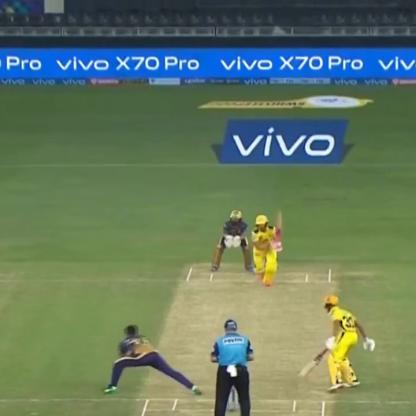pitch: (135, 257, 339, 415)
